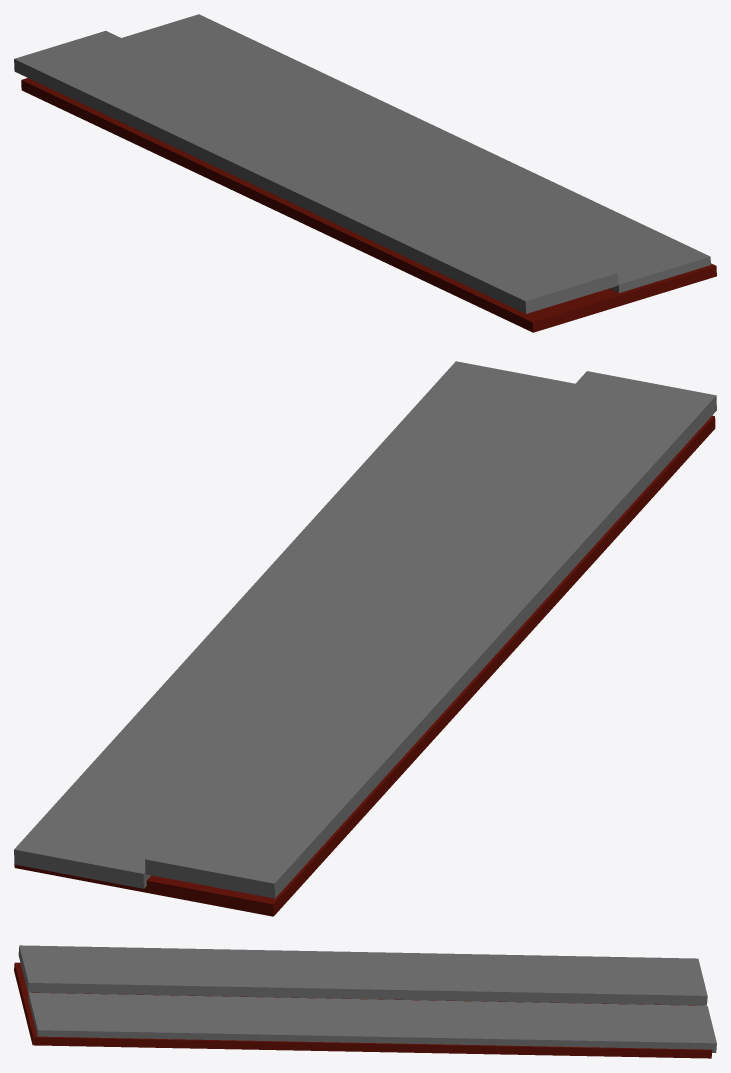
Rendered from RightRadiator.glb.
3 renders of one model, top to bottom at view 1: azimuth 30°, elevation 25°; view 2: azimuth 150°, elevation 25°; view 3: azimuth 270°, elevation 25°, orthographic. The views are drawn at different scales.
Visible parts, largest first — view 1: RadiatorFlap.006, RadiatorFlap.007, RadiatorHeat.001; view 2: RadiatorFlap.006, RadiatorFlap.007, RadiatorHeat.001; view 3: RadiatorFlap.006, RadiatorFlap.007, RadiatorHeat.001.
Part boxes in pixels (bbox=[...]): RadiatorFlap.006: bbox=[14, 30, 617, 313]; RadiatorFlap.007: bbox=[122, 14, 710, 292]; RadiatorHeat.001: bbox=[21, 78, 716, 332]; RadiatorFlap.006: bbox=[145, 371, 716, 898]; RadiatorFlap.007: bbox=[14, 361, 574, 888]; RadiatorHeat.001: bbox=[14, 415, 715, 916]; RadiatorFlap.006: bbox=[18, 945, 707, 1005]; RadiatorFlap.007: bbox=[28, 992, 716, 1052]; RadiatorHeat.001: bbox=[14, 962, 712, 1058].
Bounding box in the file's own units: 3.39 × 0.9897 × 9.44.
